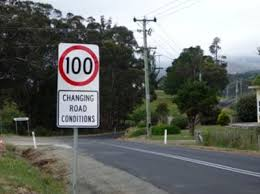sp100: (53, 45, 106, 87)
